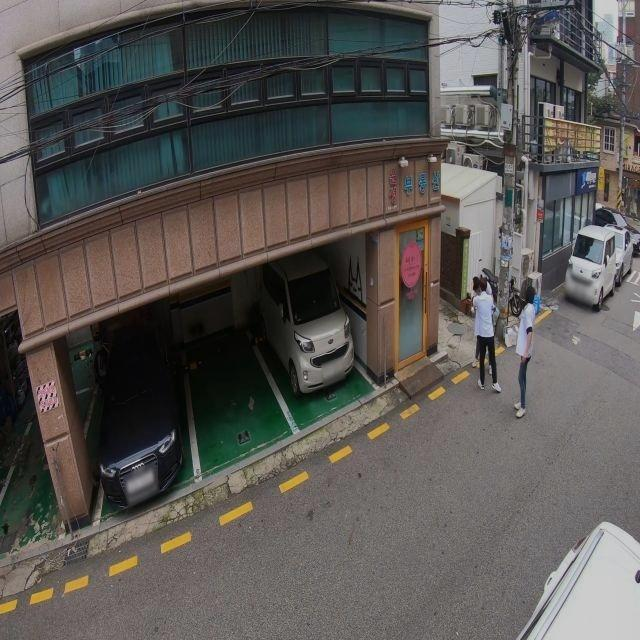fight: (468, 272, 501, 392)
non-fight: (510, 286, 536, 417)
